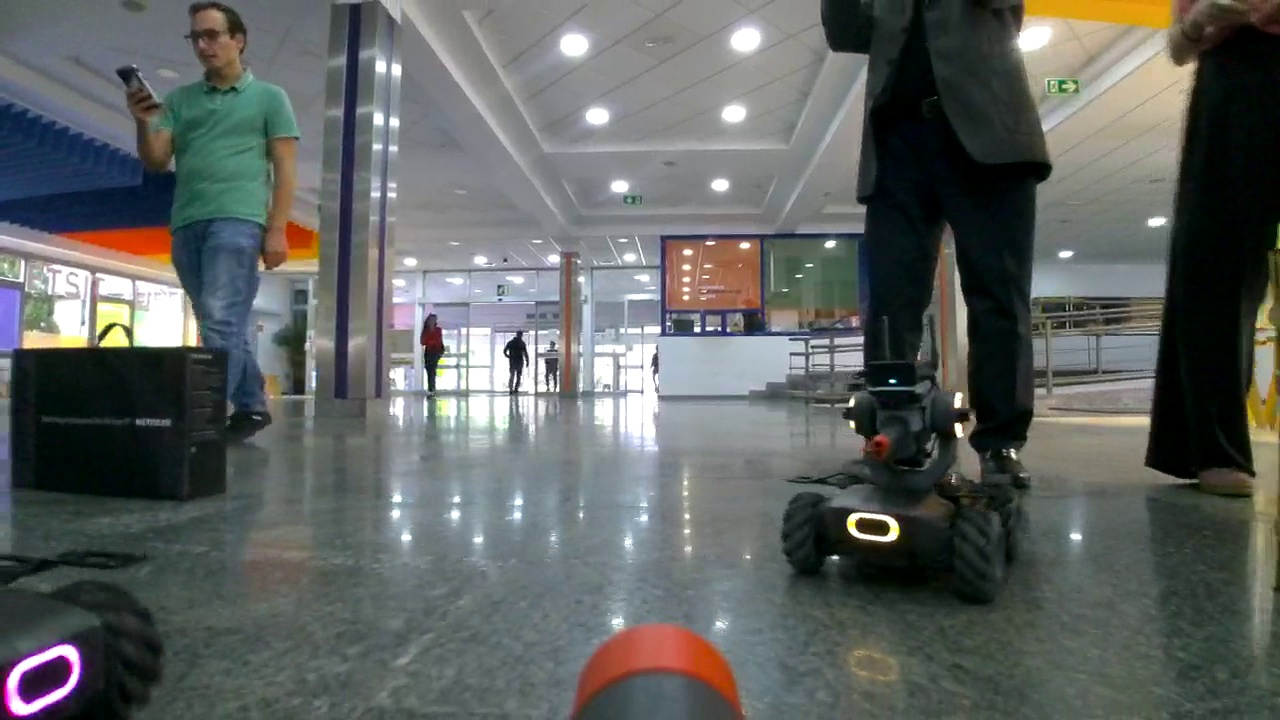robot: (779, 355, 1027, 604)
